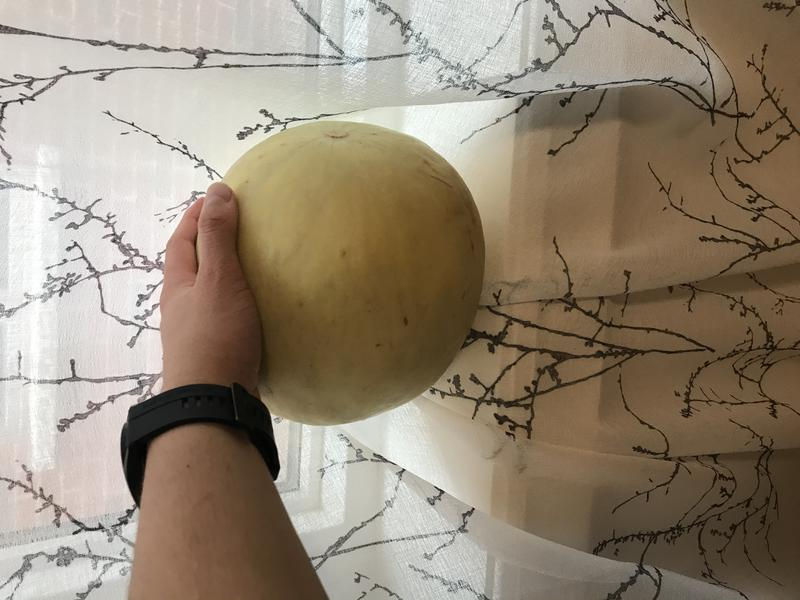honeydew: (199, 119, 497, 434)
